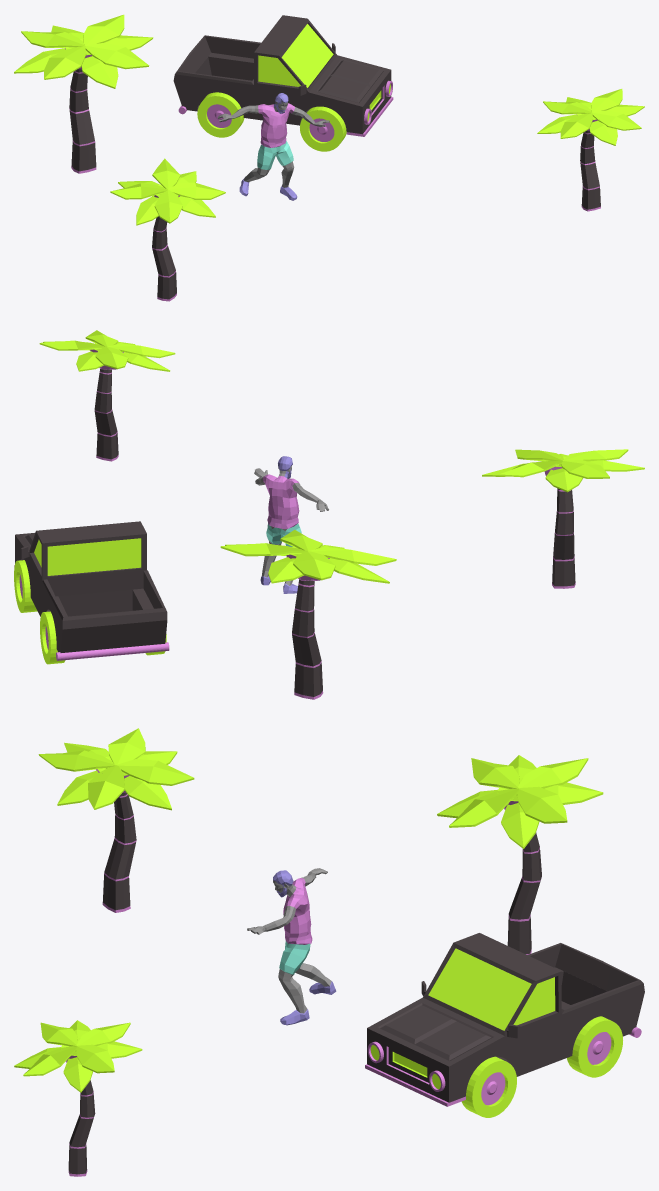
The model's file is escena.glb.
3 views of the same model, one above another, from view 1: azimuth 30°, elevation 25°; view 2: azimuth 150°, elevation 25°; view 3: azimuth 270°, elevation 25° (orthographic). The views are drawn at different scales.
Visible parts, largest first — view 1: Cube_002, Escena, personaje; view 2: Cube_002, Escena, personaje; view 3: Cube_002, Escena, personaje.
Part boxes in pixels (<box>): Cube_002: <box>173,15,393,151</box>; Escena: <box>14,14,644,301</box>; personaje: <box>217,93,329,200</box>; Cube_002: <box>14,521,169,664</box>; Escena: <box>39,330,644,699</box>; personaje: <box>254,456,328,593</box>; Cube_002: <box>365,933,644,1117</box>; Escena: <box>14,728,603,1176</box>; personaje: <box>247,868,336,1025</box>.
Size of the model in its own units: 0.9506 by 0.2292 by 0.7614.
